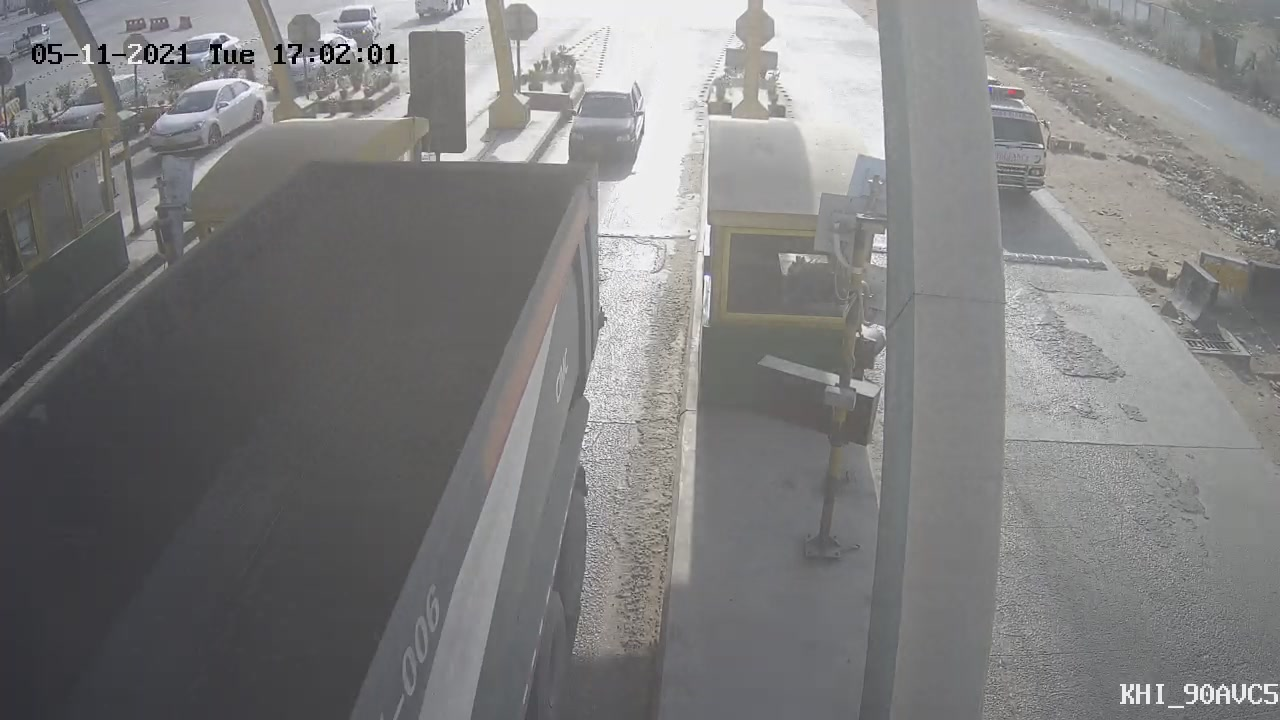F1: (551, 66, 659, 181)
